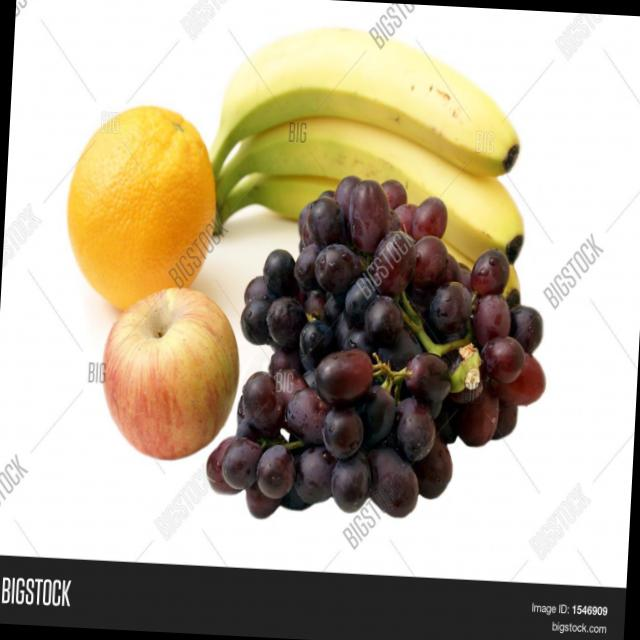apple: (100, 289, 244, 463)
banana: (215, 165, 553, 338), (207, 22, 538, 174), (232, 113, 540, 275)
orange: (61, 103, 220, 332)
